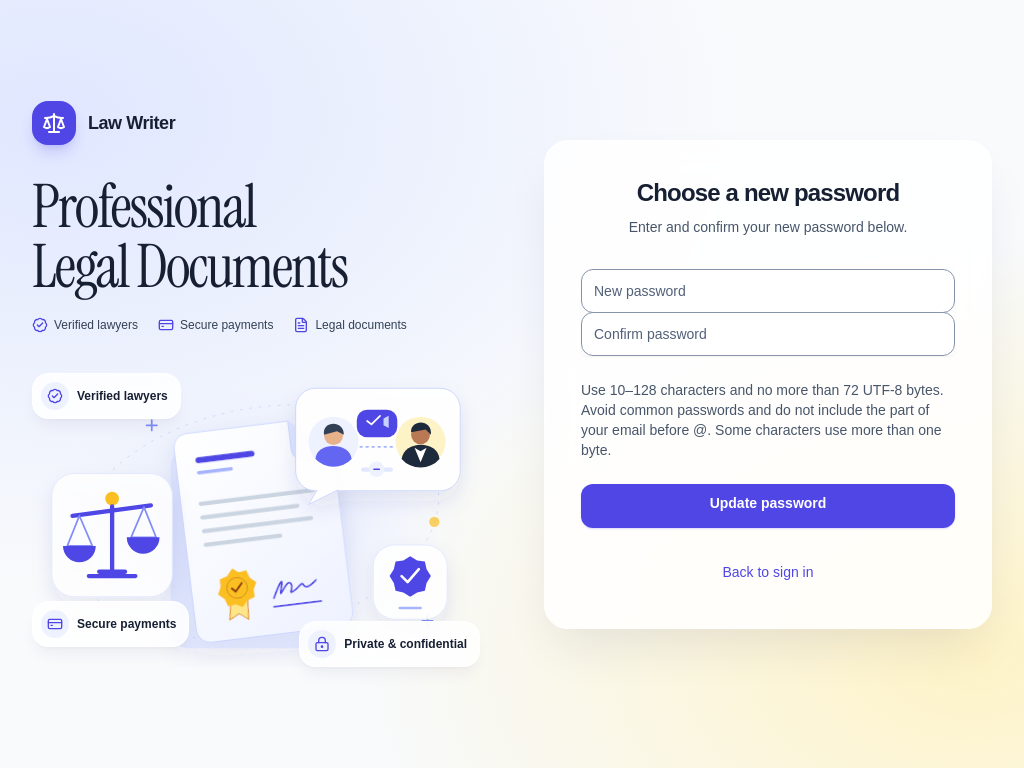
Test: reset displays rules and server errors, then confirms success
Expected: the text "10–128 characters" is shown, x1=581 y1=382 x2=944 y2=458
Type "Fresh-river-copper!" into the password field labelled "New password" at (768, 290), box x1=581 y1=268 x2=955 y2=312
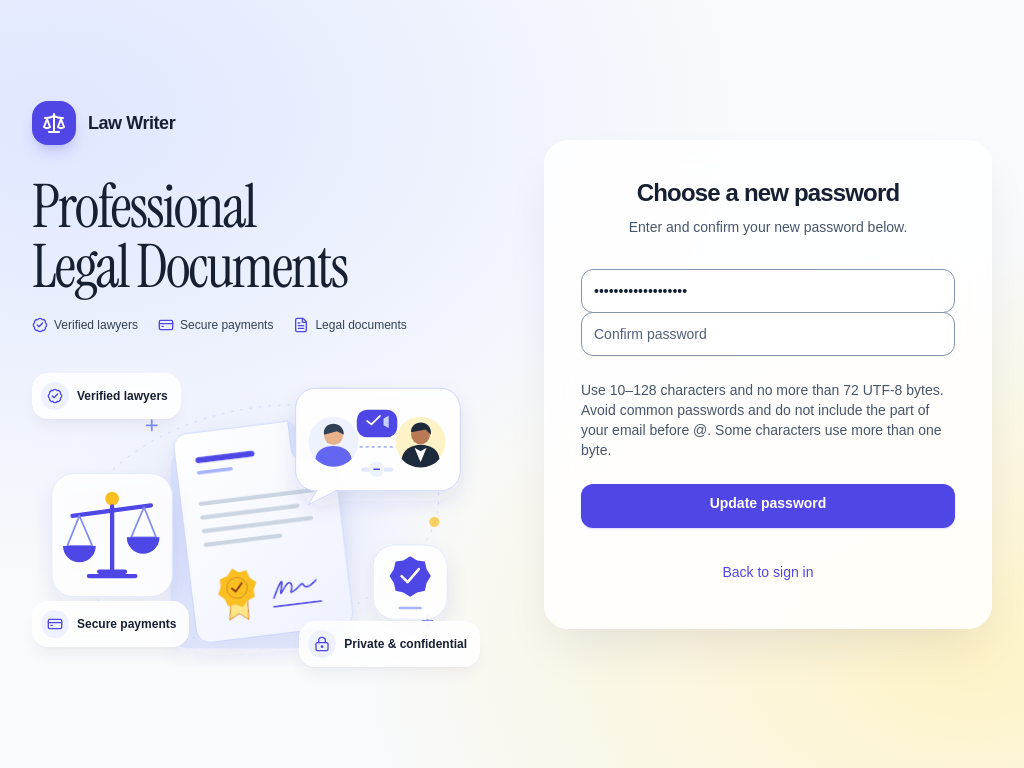
Type "Fresh-river-copper!" into the password field labelled "Confirm password" at (768, 334), box x1=581 y1=312 x2=955 y2=356
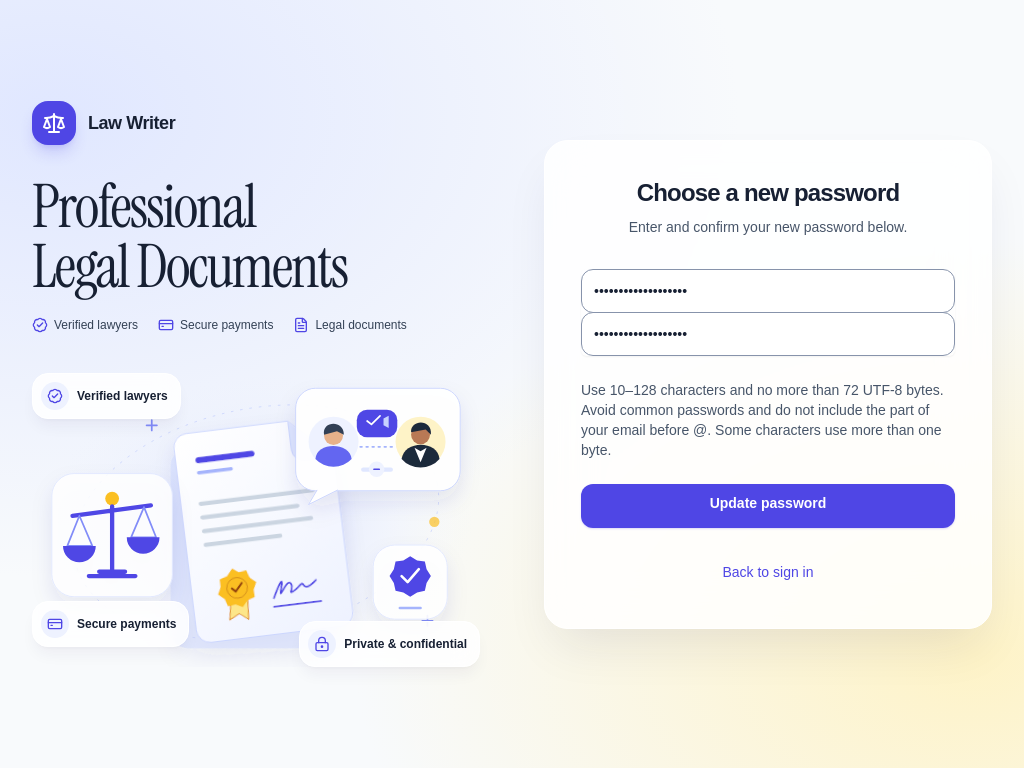
Click the button "Update password" at (768, 506), box x1=581 y1=484 x2=955 y2=528
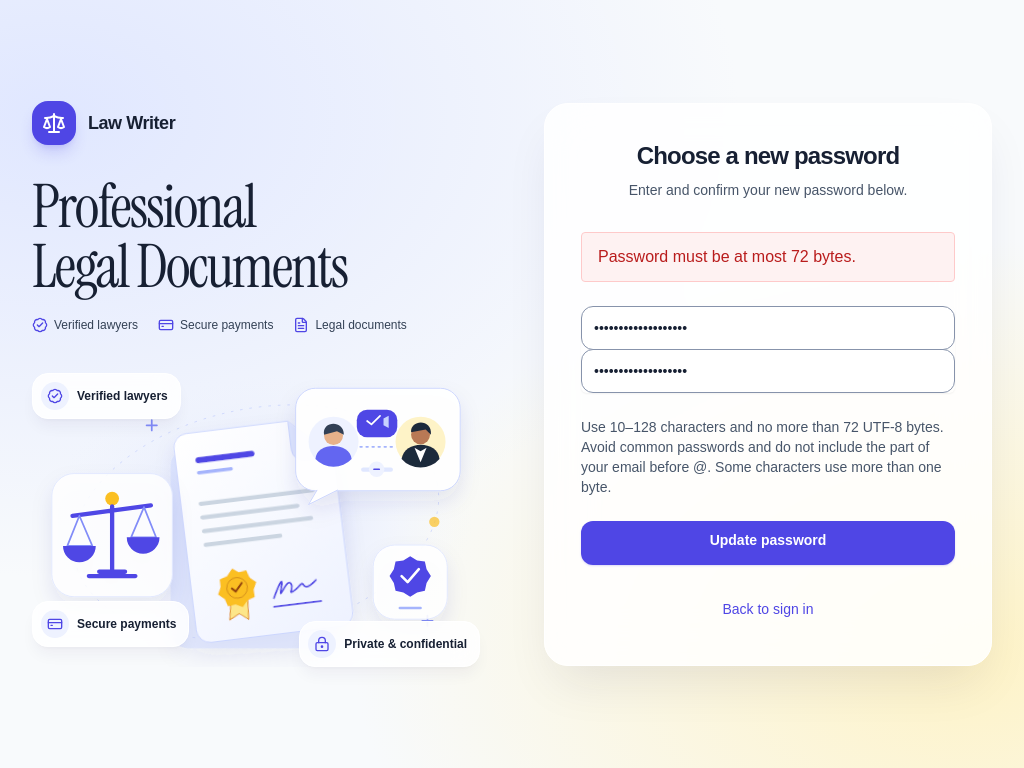
Result: the message shows "72 bytes" at x1=598 y1=248 x2=856 y2=264
Click the button "Update password" at (768, 542), box x1=581 y1=520 x2=955 y2=564
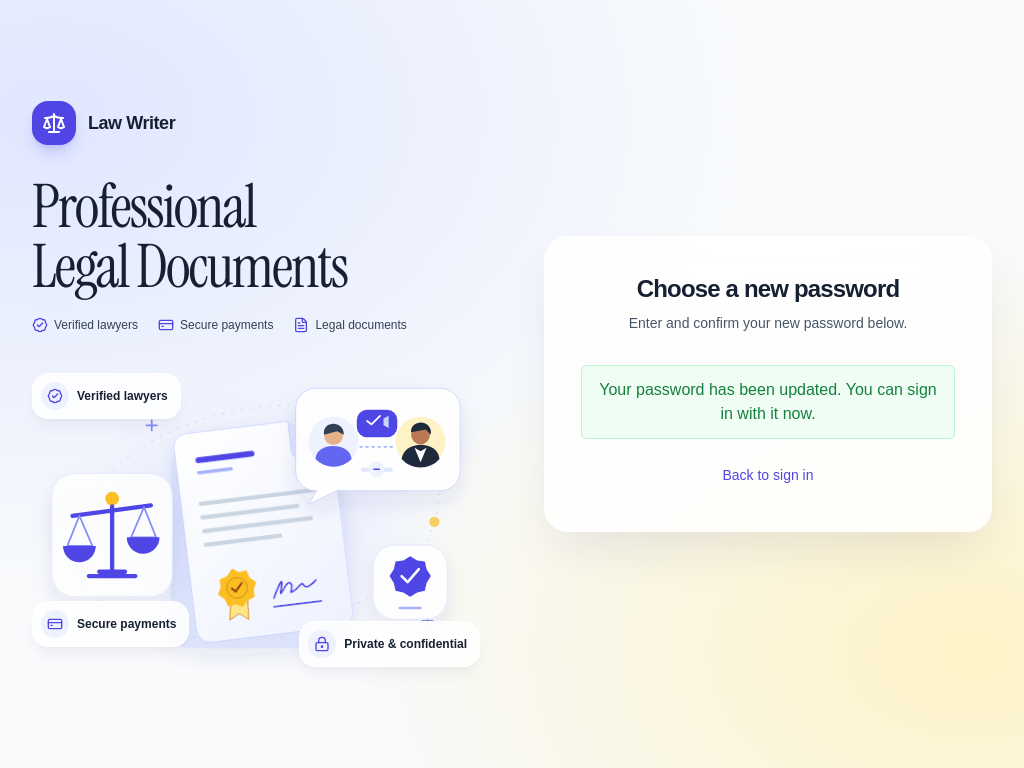
Result: the text "Your password has been updated. You can sign in with it now." is shown at x1=581 y1=365 x2=955 y2=439
